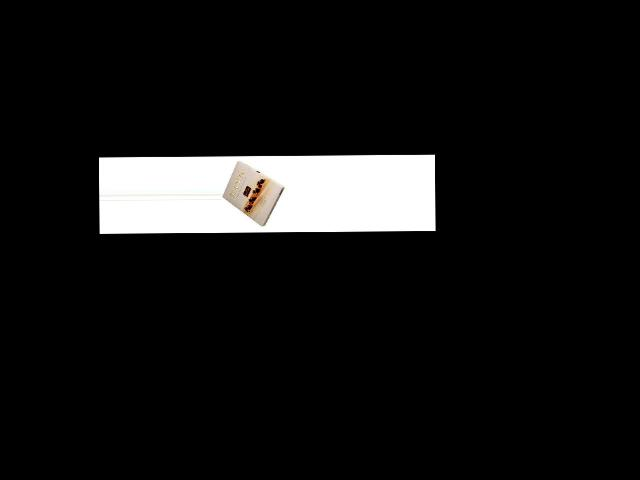chocolate: (223, 160, 286, 231)
